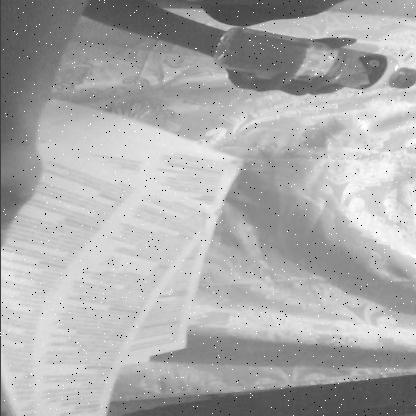Plastic Bottle: (212, 25, 412, 95)
